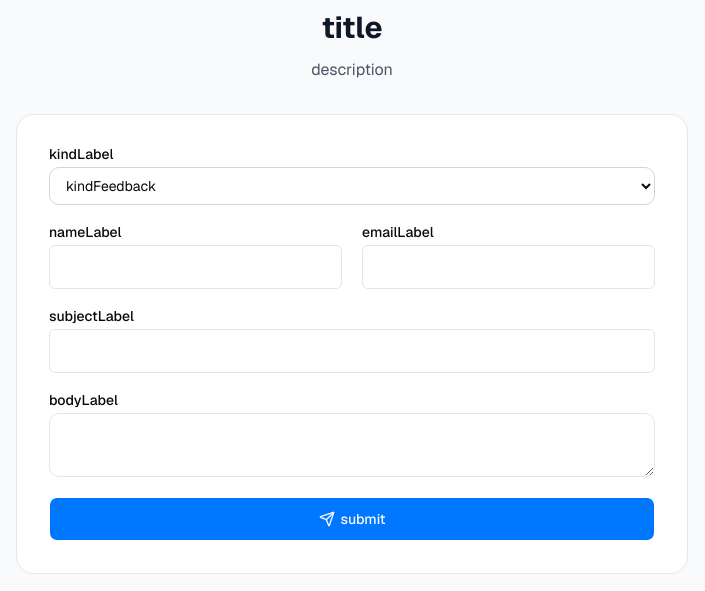
ContactForm › submits a valid message and shows the success state
Select "kindComplaint" in the dropdown labelled "kindLabel": (352, 186) [49,167,655,205]
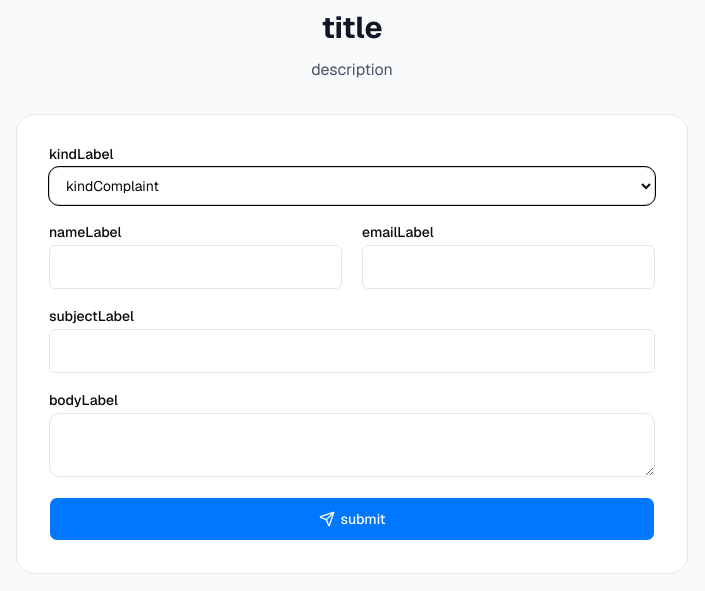
In the field labelled "emailLabel": (508, 267) [362,245,655,289], type "jane@example.com"
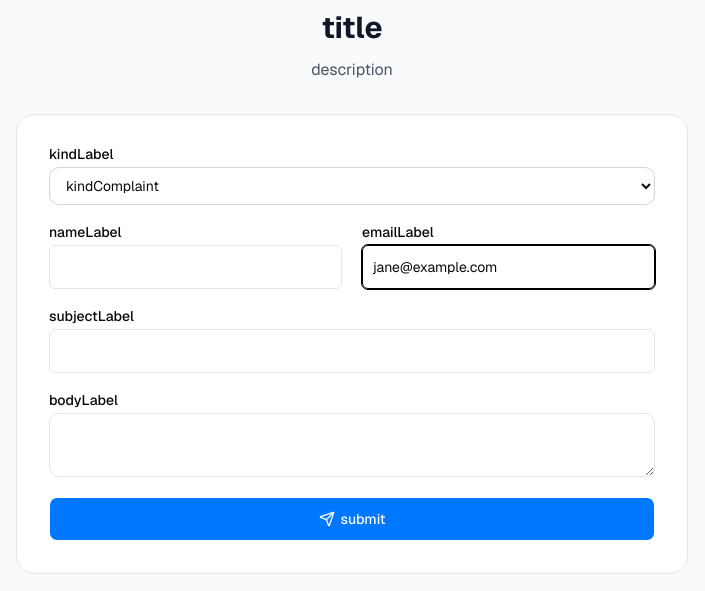
In the text box labelled "bodyLabel": (352, 445) [49,413,655,477], type "Broken item"
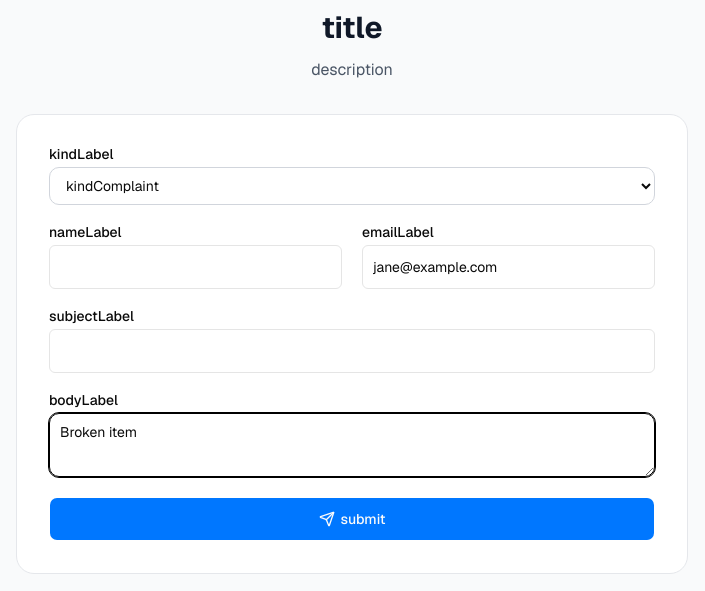
Click the button "submit": click(352, 519) [49,497,655,541]
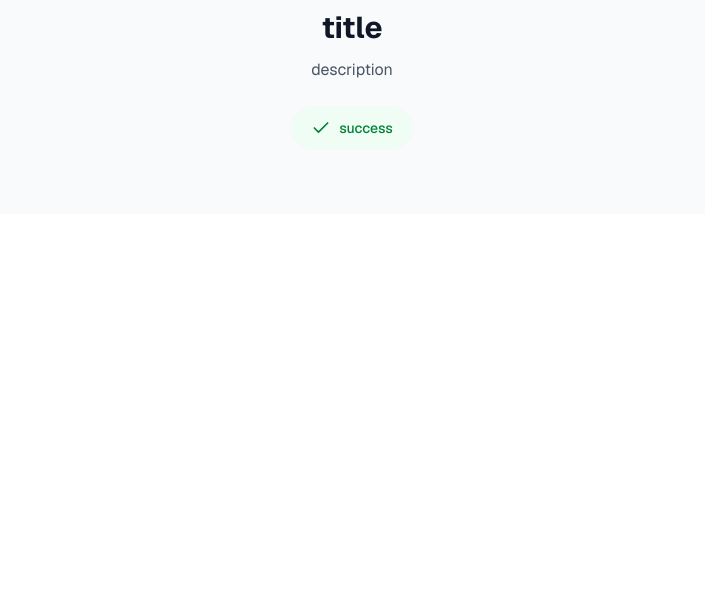
Check: the message reads "success", box [339,119,393,137]
